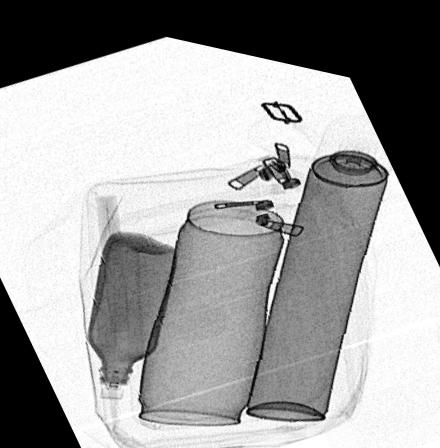Sprayer: (244, 97, 390, 407)
